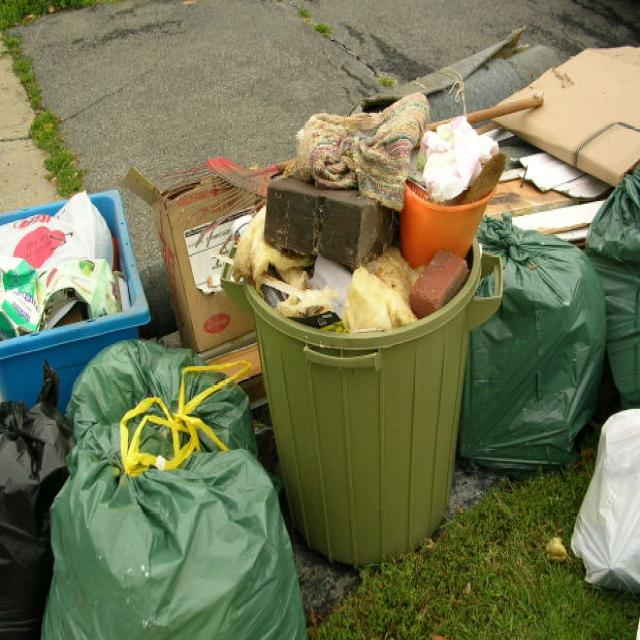cardboard: (513, 33, 639, 169)
trash: (7, 196, 637, 589)
